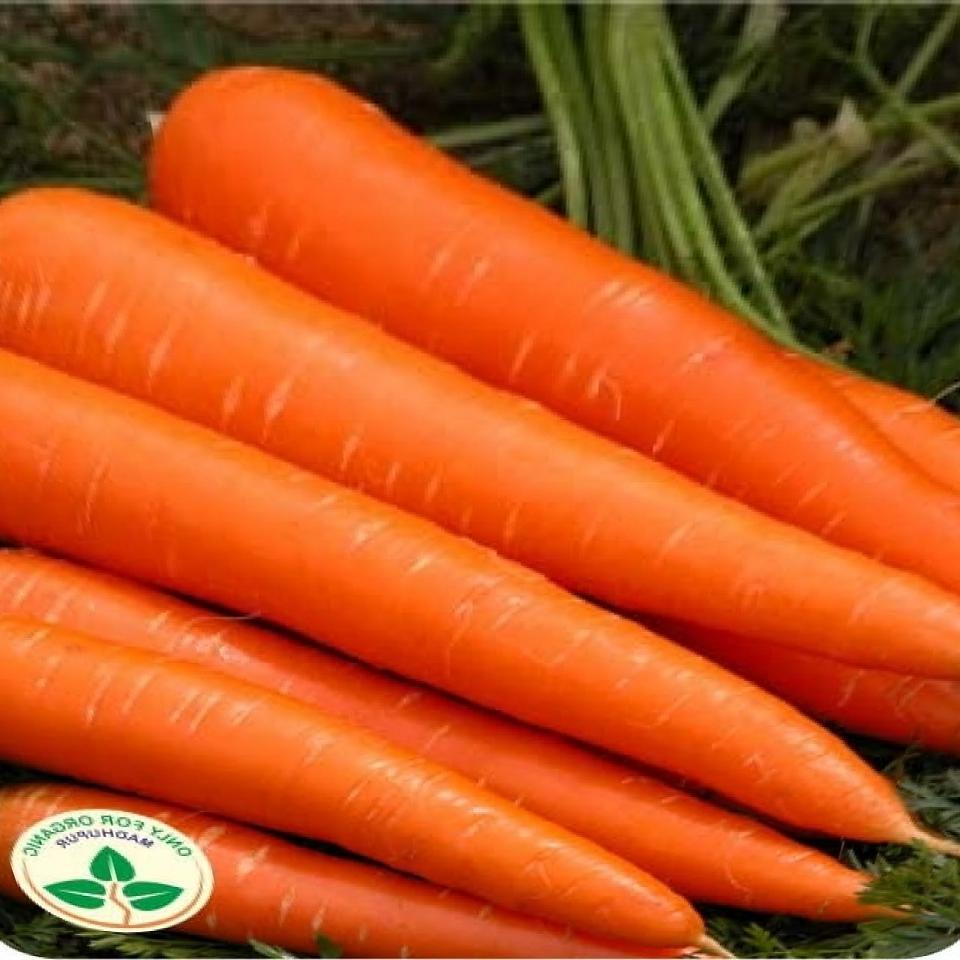carrot: (12, 81, 907, 838)
